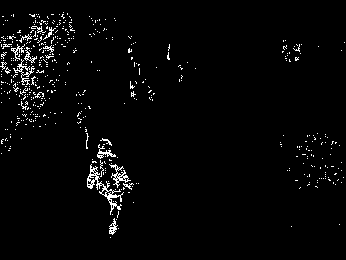person: (87, 139, 134, 238)
